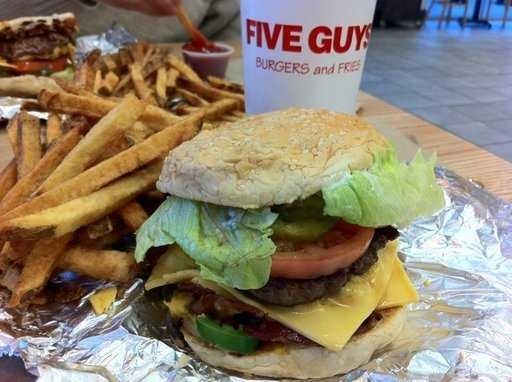hamburger: (163, 101, 423, 365)
